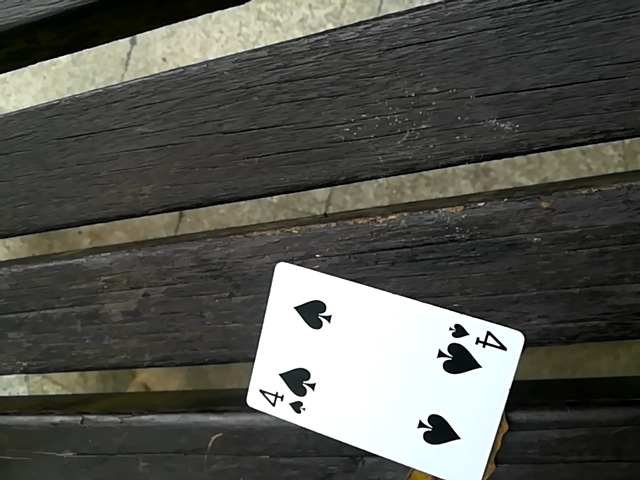ht 4: (238, 252, 530, 480)
